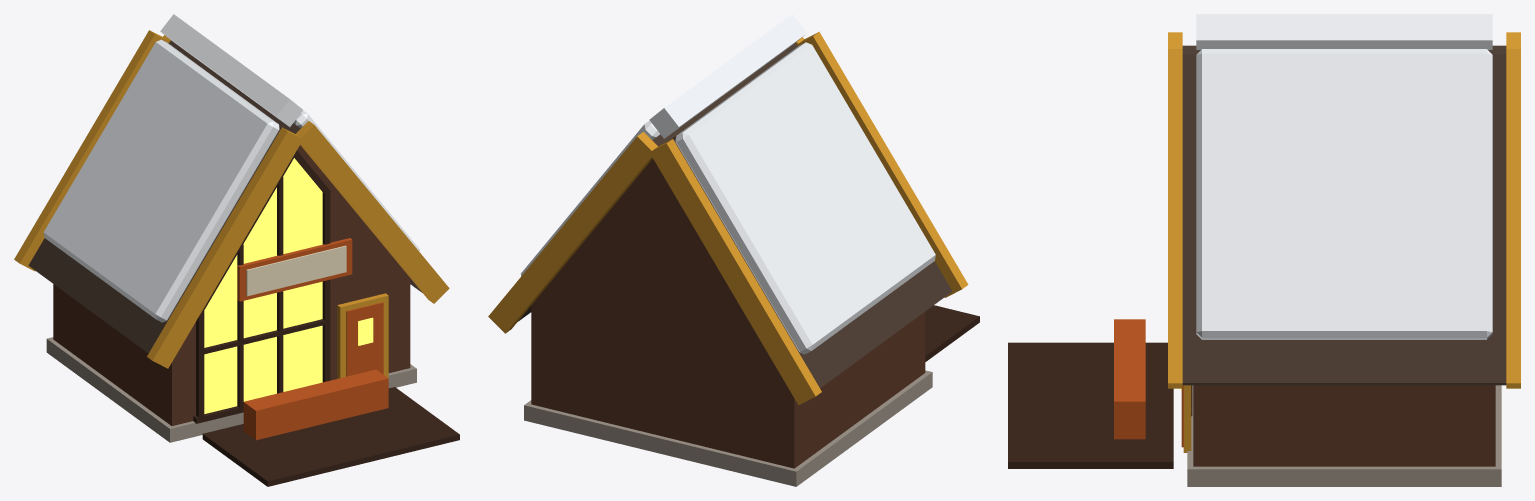
Rendered from waffle-haus-chalet70s.glb.
The picture shows the model from 3 angles, left to right: view 1: azimuth 30°, elevation 25°; view 2: azimuth 150°, elevation 25°; view 3: azimuth 270°, elevation 25°; orthographic projection. The views are drawn at different scales.
Visible parts, largest first — view 1: waffle-haus-chalet70s; view 2: waffle-haus-chalet70s; view 3: waffle-haus-chalet70s.
Boxes of the visible parts, left/top/right/bottom form: waffle-haus-chalet70s: left=14, top=14, right=459, bottom=486; waffle-haus-chalet70s: left=488, top=14, right=979, bottom=486; waffle-haus-chalet70s: left=1008, top=14, right=1520, bottom=486.
Size of the model in its own units: 8.96 by 8.97 by 10.52.
